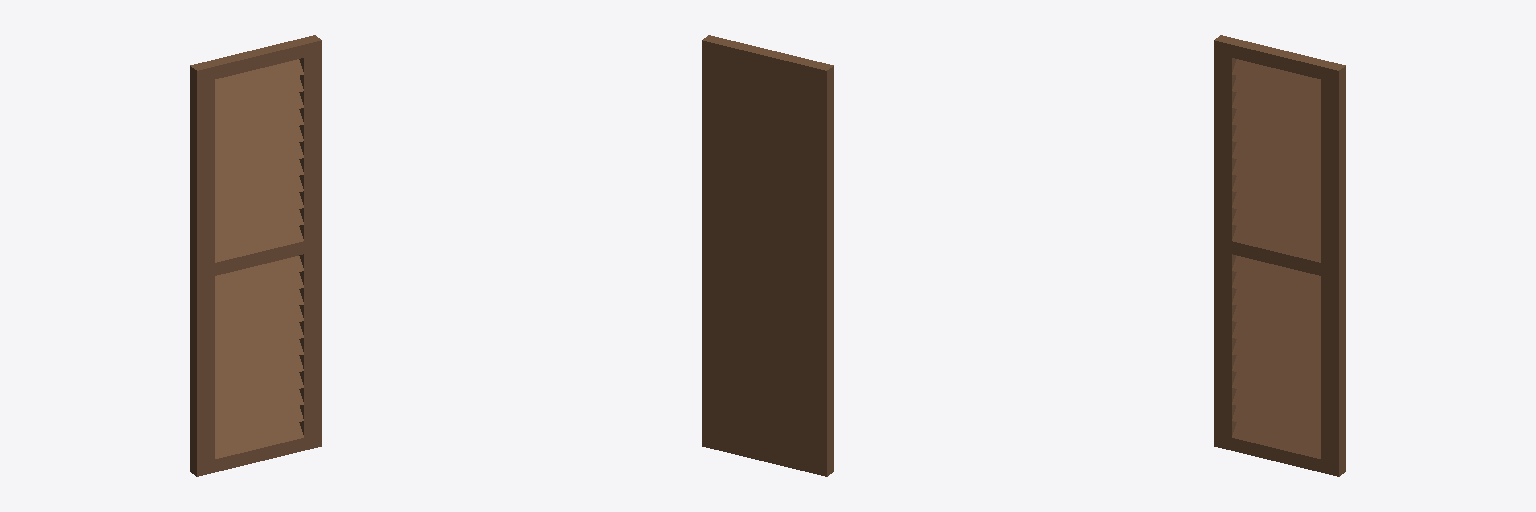
File: Prop_Exterior_Shutter_Louvered.obj
The picture shows the model from 3 angles: view 1: azimuth 30°, elevation 25°; view 2: azimuth 150°, elevation 25°; view 3: azimuth 330°, elevation 25°; orthographic projection.
Parts seen in each view (by area): view 1: object1; view 2: object1; view 3: object1.
Boxes of the visible parts, <box> form: object1: <box>190,35,321,476</box>; object1: <box>702,35,833,476</box>; object1: <box>1214,35,1345,476</box>.
Size of the model in its own units: 0.5 by 1.55 by 0.05.